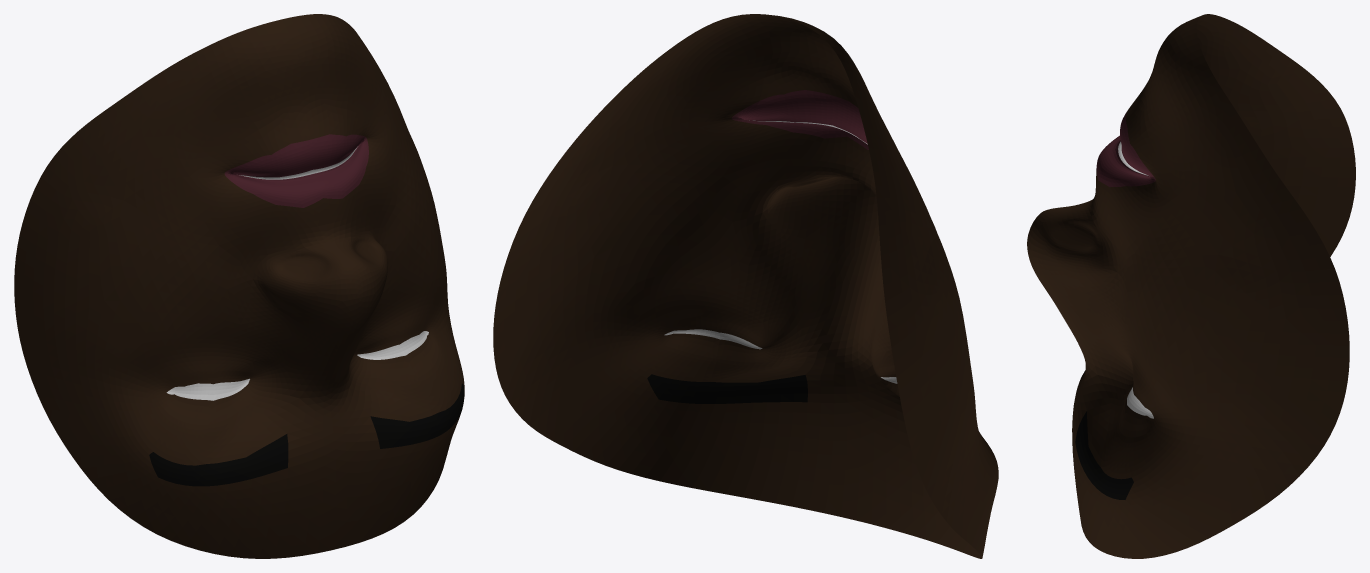
The model's file is VID-20250515-WA0005_f_01056.obj.
The picture shows the model from 3 angles, left to right: view 1: azimuth 30°, elevation 25°; view 2: azimuth 150°, elevation 25°; view 3: azimuth 270°, elevation 25°; orthographic projection. The views are drawn at different scales.
Visible parts, largest first — view 1: face_mesh_subdivided; view 2: face_mesh_subdivided; view 3: face_mesh_subdivided.
Part boxes in pixels (x1=…): face_mesh_subdivided: x1=14, y1=14, x2=464, y2=558; face_mesh_subdivided: x1=493, y1=14, x2=998, y2=558; face_mesh_subdivided: x1=1027, y1=14, x2=1355, y2=558.
Bounding box in the file's own units: 0.4622 × 0.5644 × 0.3448.
